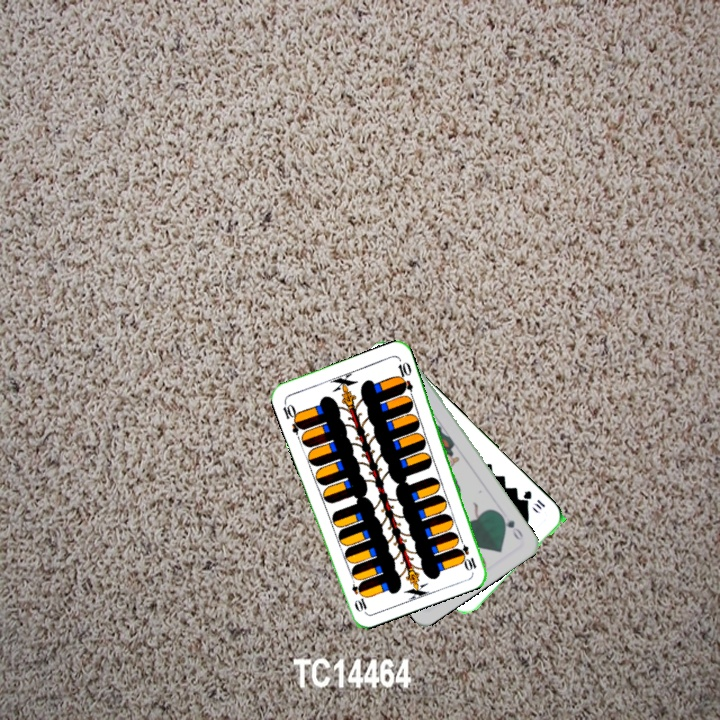E10: (278, 397, 306, 436), (454, 533, 479, 573)
G10: (519, 486, 548, 513)
GO: (496, 509, 526, 543)
